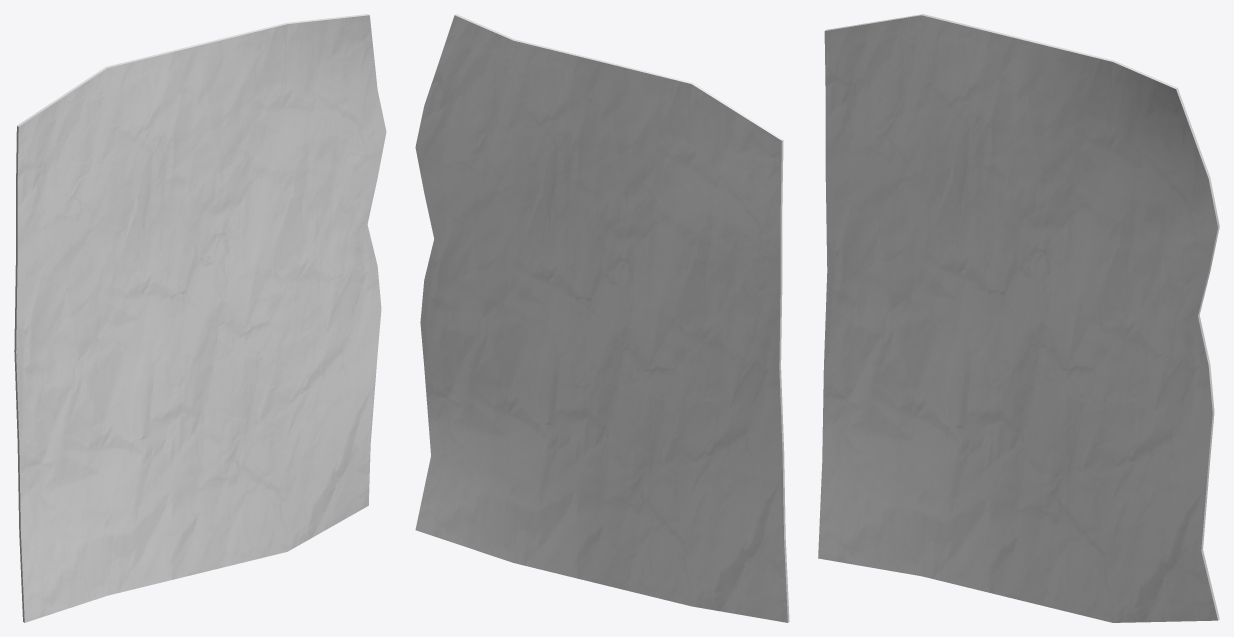
Rendered from Book Page.FBX.
3 renders of one model, left to right at view 1: azimuth 30°, elevation 25°; view 2: azimuth 150°, elevation 25°; view 3: azimuth 330°, elevation 25°, orthographic. The views are drawn at different scales.
Parts seen in each view (by area): view 1: Box001; view 2: Box001; view 3: Box001.
Part boxes in pixels (x1,y1,x2,y2): Box001: (14, 14, 386, 622); Box001: (415, 14, 789, 622); Box001: (818, 14, 1219, 622).
Size of the model in its own units: 15.01 by 20.51 by 1.55.
1 material, 1 textured.
